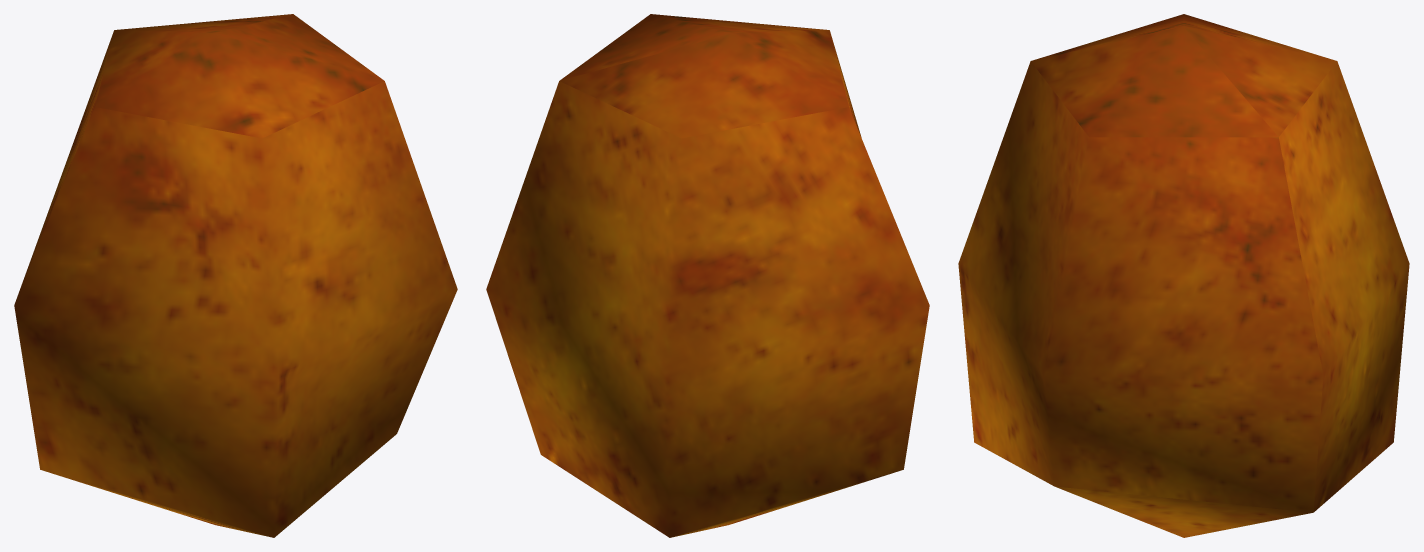
Rendered from potato.fbx.
3 renders of one model, left to right at view 1: azimuth 30°, elevation 25°; view 2: azimuth 150°, elevation 25°; view 3: azimuth 270°, elevation 25°, orthographic. The views are drawn at different scales.
Visible parts, largest first — view 1: potato; view 2: potato; view 3: potato.
Boxes of the visible parts, bbox=[...] form: potato: bbox=[14, 14, 457, 537]; potato: bbox=[486, 14, 929, 537]; potato: bbox=[958, 14, 1409, 537].
Size of the model in its own units: 15.86 by 19.82 by 15.91.
1 material, 1 textured.
